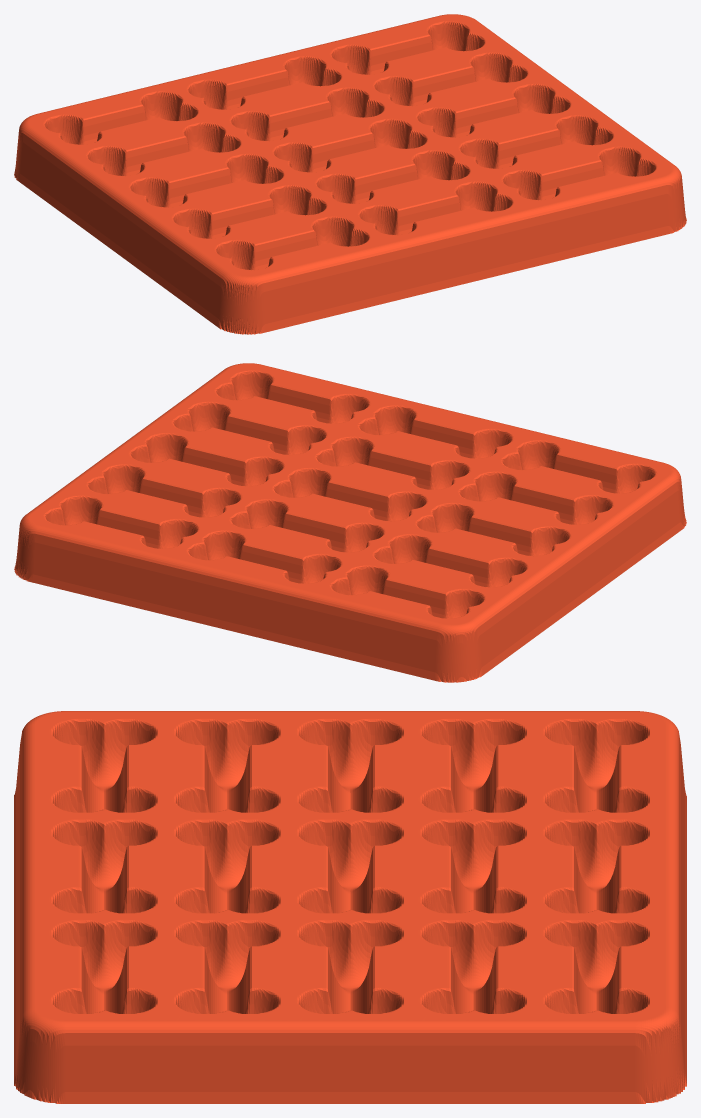
The model's file is mold.glb.
3 renders of one model, top to bottom at view 1: azimuth 30°, elevation 25°; view 2: azimuth 150°, elevation 25°; view 3: azimuth 270°, elevation 25°, orthographic. The views are drawn at different scales.
Parts seen in each view (by area): view 1: geometry_0; view 2: geometry_0; view 3: geometry_0.
Part boxes in pixels (bbox=[...]): geometry_0: bbox=[14, 14, 686, 334]; geometry_0: bbox=[14, 363, 686, 682]; geometry_0: bbox=[14, 711, 686, 1103].
Size of the model in its own units: 0.1361 by 0.0145 by 0.1188.
